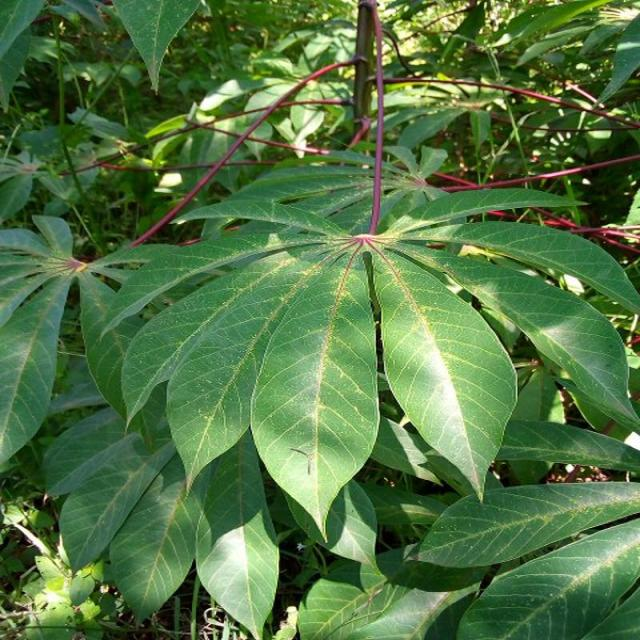cassava leaf: (6, 2, 638, 637), (369, 241, 518, 504), (249, 250, 380, 544)
